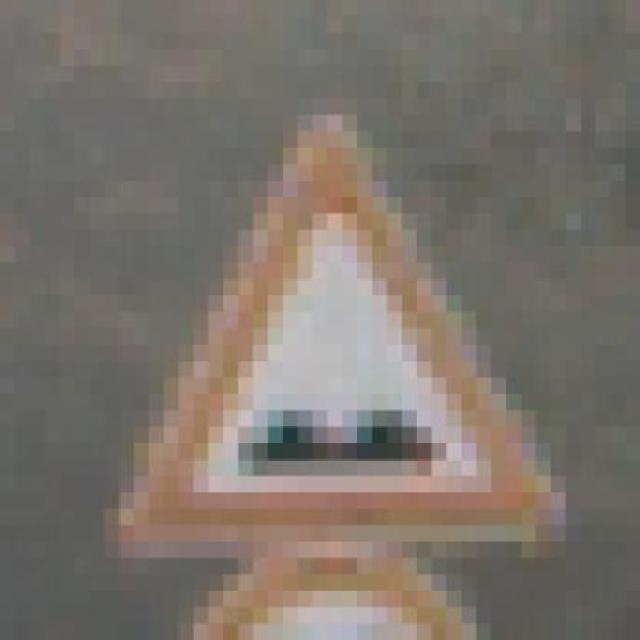Uneven Road: (89, 99, 566, 558)
